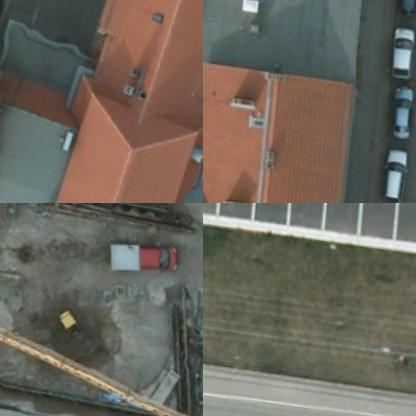car: (369, 148, 410, 202), (133, 243, 184, 282), (382, 30, 415, 87), (382, 90, 416, 144), (391, 0, 415, 24)
